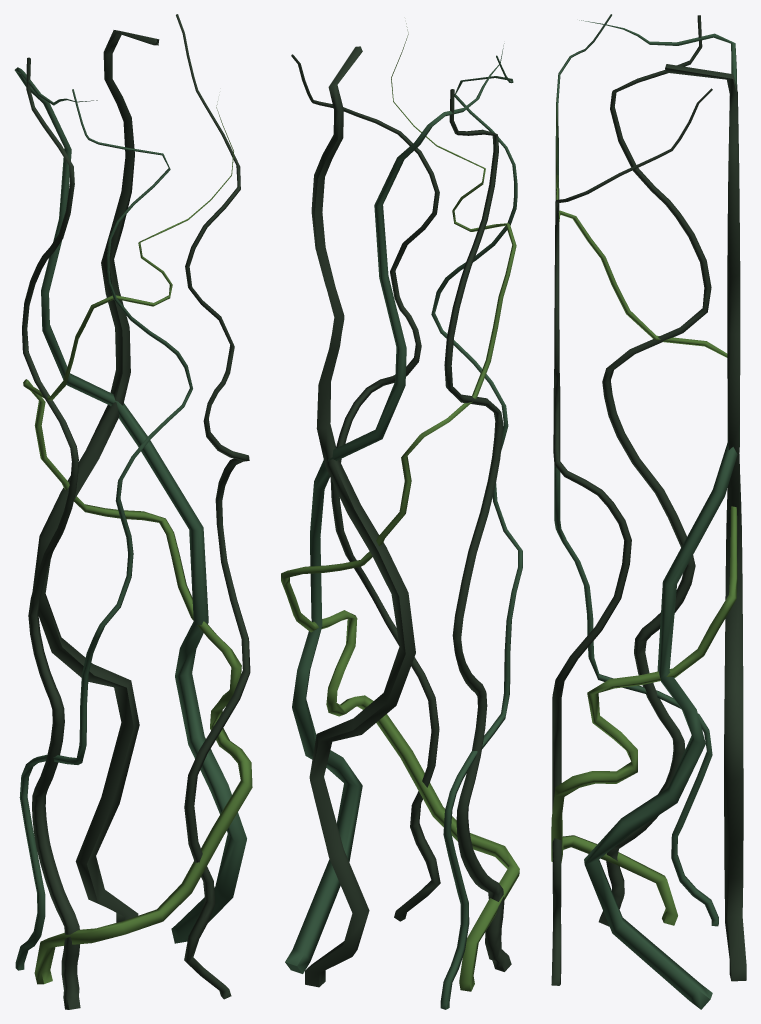
File: vines.fbx
3 views of the same model, side by side, from view 1: azimuth 30°, elevation 25°; view 2: azimuth 150°, elevation 25°; view 3: azimuth 270°, elevation 25° (orthographic).
Parts seen in each view (by area): view 1: dark_green_vines, medium_green_vines, light_green_vines; view 2: dark_green_vines, medium_green_vines, light_green_vines; view 3: dark_green_vines, medium_green_vines, light_green_vines.
Boxes of the visible parts, x1=… form: dark_green_vines: x1=22, y1=14, x2=250, y2=1009; medium_green_vines: x1=14, y1=67, x2=246, y2=970; light_green_vines: x1=23, y1=101, x2=252, y2=984; dark_green_vines: x1=291, y1=46, x2=511, y2=987; medium_green_vines: x1=285, y1=43, x2=522, y2=1009; light_green_vines: x1=281, y1=23, x2=519, y2=991; dark_green_vines: x1=551, y1=15, x2=746, y2=985; medium_green_vines: x1=554, y1=14, x2=739, y2=1009; light_green_vines: x1=551, y1=97, x2=737, y2=925.
Size of the model in its own units: 3.45 by 17.75 by 3.42.
